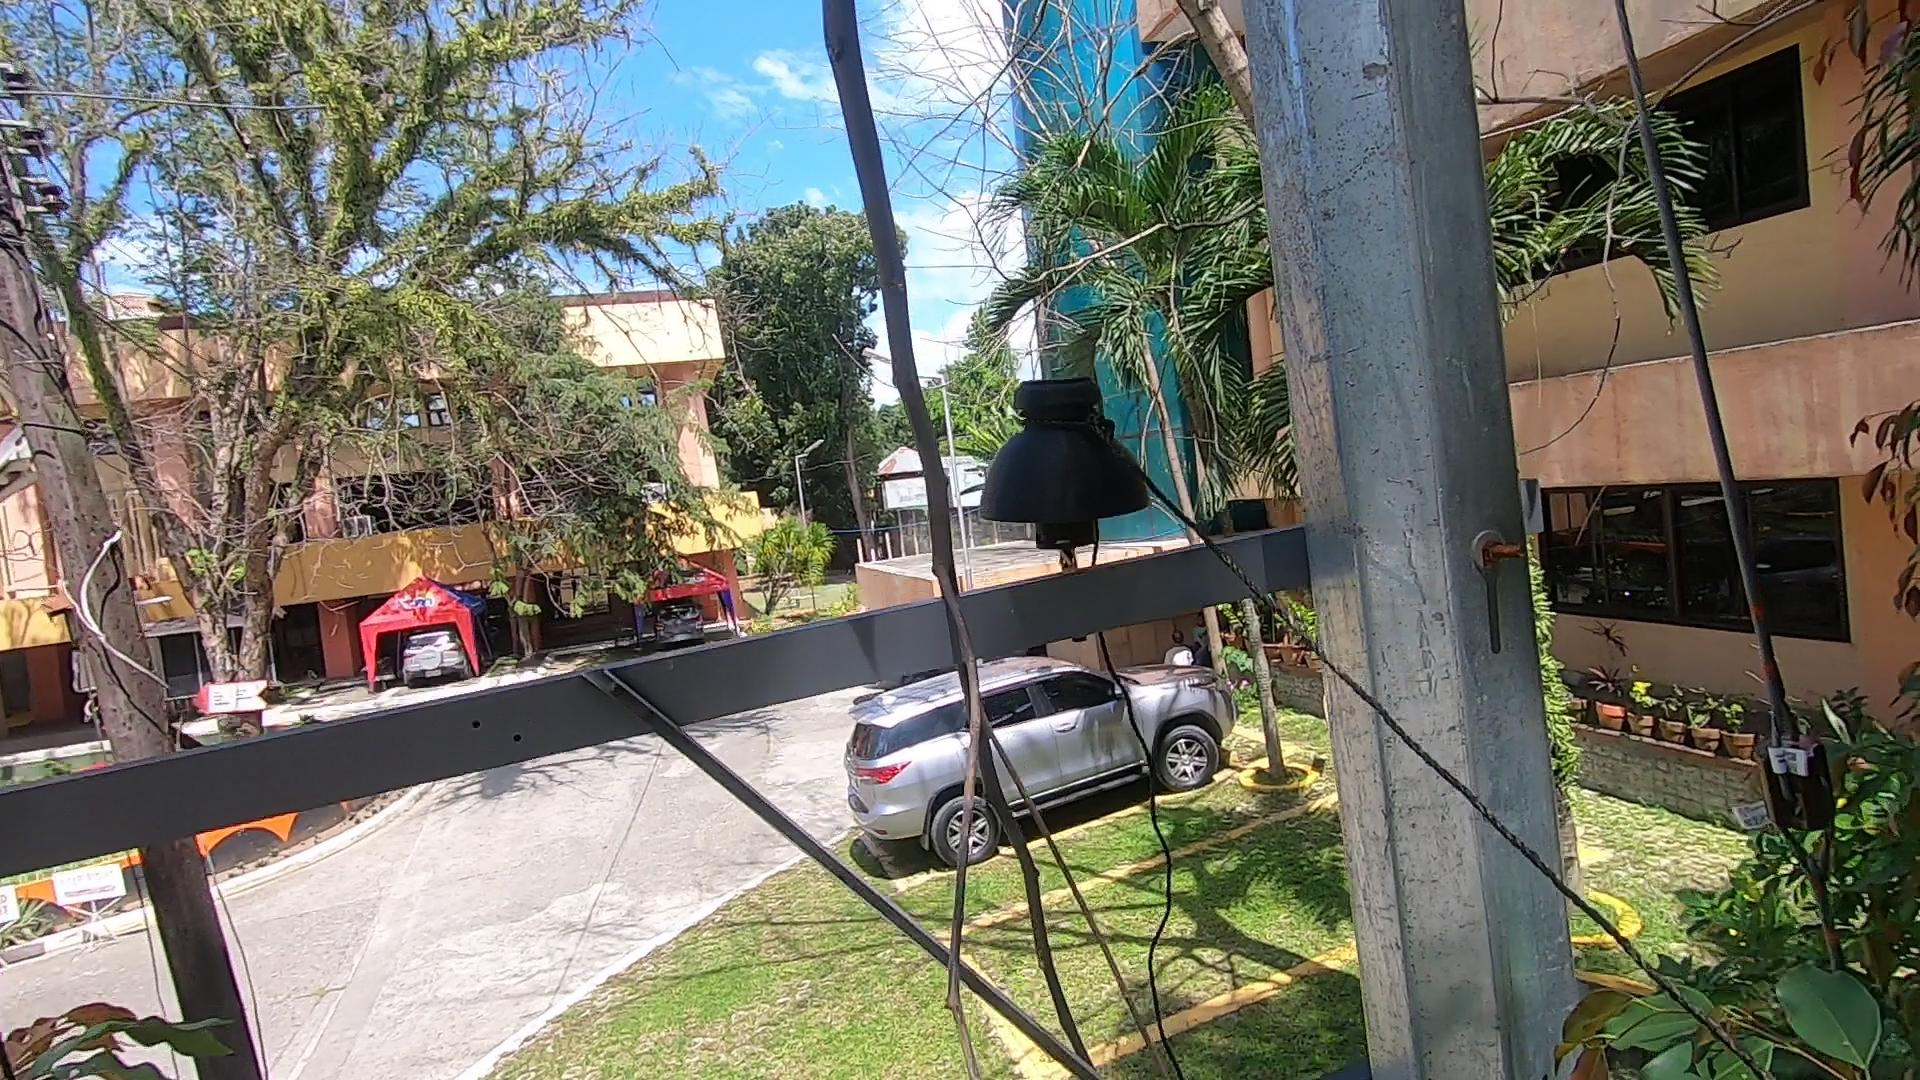tree branch: (735, 9, 1147, 1059)
